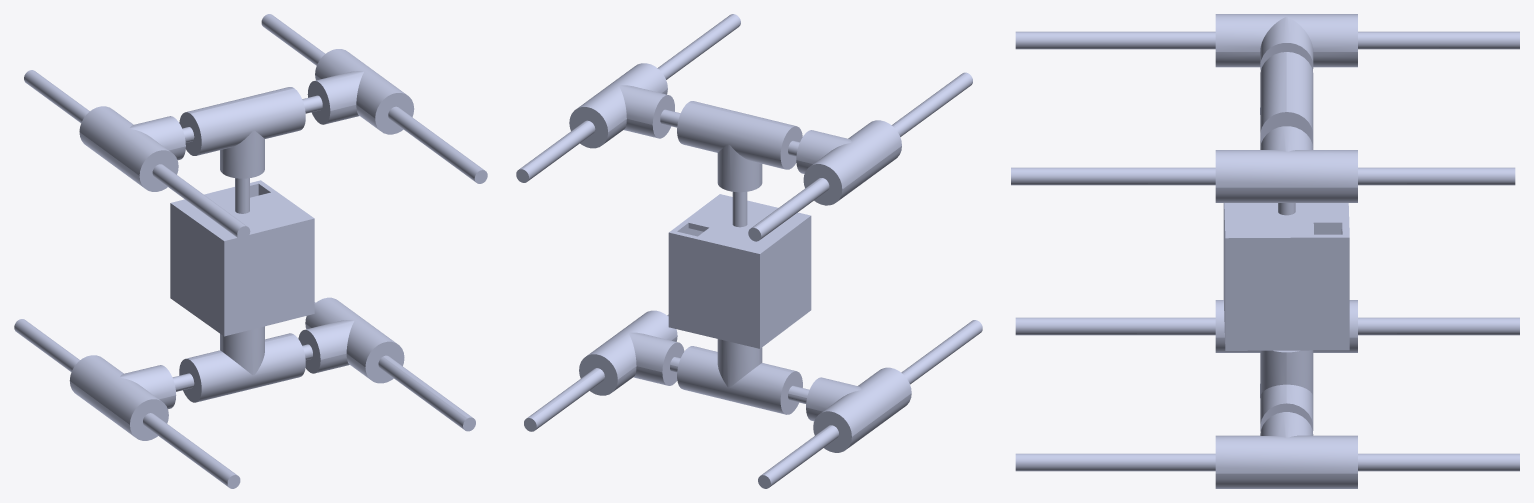
The model's file is gltf test file correct orientation.gltf.
The picture shows the model from 3 angles, left to right: view 1: azimuth 30°, elevation 25°; view 2: azimuth 150°, elevation 25°; view 3: azimuth 270°, elevation 25°; orthographic projection. The views are drawn at different scales.
Visible parts, largest first — view 1: empty_15, empty_12, empty_9, empty_10, empty_7, empty_11, empty_6, empty_4, empty_2, empty_5, empty_3, empty_14; view 2: empty_15, empty_12, empty_9, empty_7, empty_10, empty_11, empty_6, empty_5, empty_4, empty_2, empty_3, empty_14; view 3: empty_15, empty_6, empty_11, empty_10, empty_2, empty_3, empty_4, empty_5, empty_12, empty_9, empty_7.
Part boxes in pixels (box(x1,y1,x2,y2)): empty_15: box(170, 180, 314, 336); empty_12: box(179, 87, 305, 178); empty_9: box(179, 326, 305, 402); empty_10: box(79, 106, 185, 191); empty_7: box(69, 355, 176, 440); empty_11: box(307, 49, 414, 134); empty_6: box(298, 297, 404, 383); empty_4: box(14, 319, 240, 488); empty_2: box(24, 70, 250, 239); empty_5: box(261, 14, 487, 183); empty_3: box(314, 302, 475, 431); empty_14: box(235, 178, 249, 213); empty_15: box(668, 194, 811, 348); empty_12: box(677, 101, 802, 192); empty_9: box(677, 339, 802, 414); empty_7: box(806, 367, 911, 452); empty_10: box(796, 120, 901, 205); empty_11: box(569, 63, 674, 148); empty_6: box(579, 310, 684, 395); empty_5: box(516, 14, 740, 182); empty_4: box(758, 320, 982, 488); empty_2: box(748, 72, 972, 241); empty_3: box(524, 314, 668, 431); empty_14: box(732, 191, 747, 227); empty_15: box(1223, 203, 1349, 350); empty_6: box(1215, 412, 1357, 488); empty_11: box(1215, 126, 1357, 202); empty_10: box(1215, 14, 1357, 71); empty_2: box(1015, 31, 1519, 49); empty_3: box(1015, 453, 1519, 471); empty_4: box(1015, 317, 1519, 335); empty_5: box(1011, 167, 1515, 185); empty_12: box(1260, 52, 1313, 147); empty_9: box(1260, 350, 1313, 431); empty_7: box(1215, 300, 1357, 352).
Bounding box in the file's own units: 69.35 × 66.98 × 90.92.
